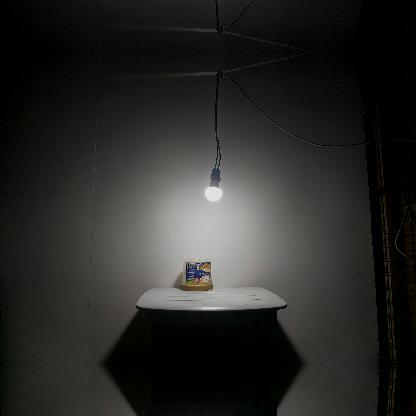Lady-s-Choice: (181, 258, 213, 290)
